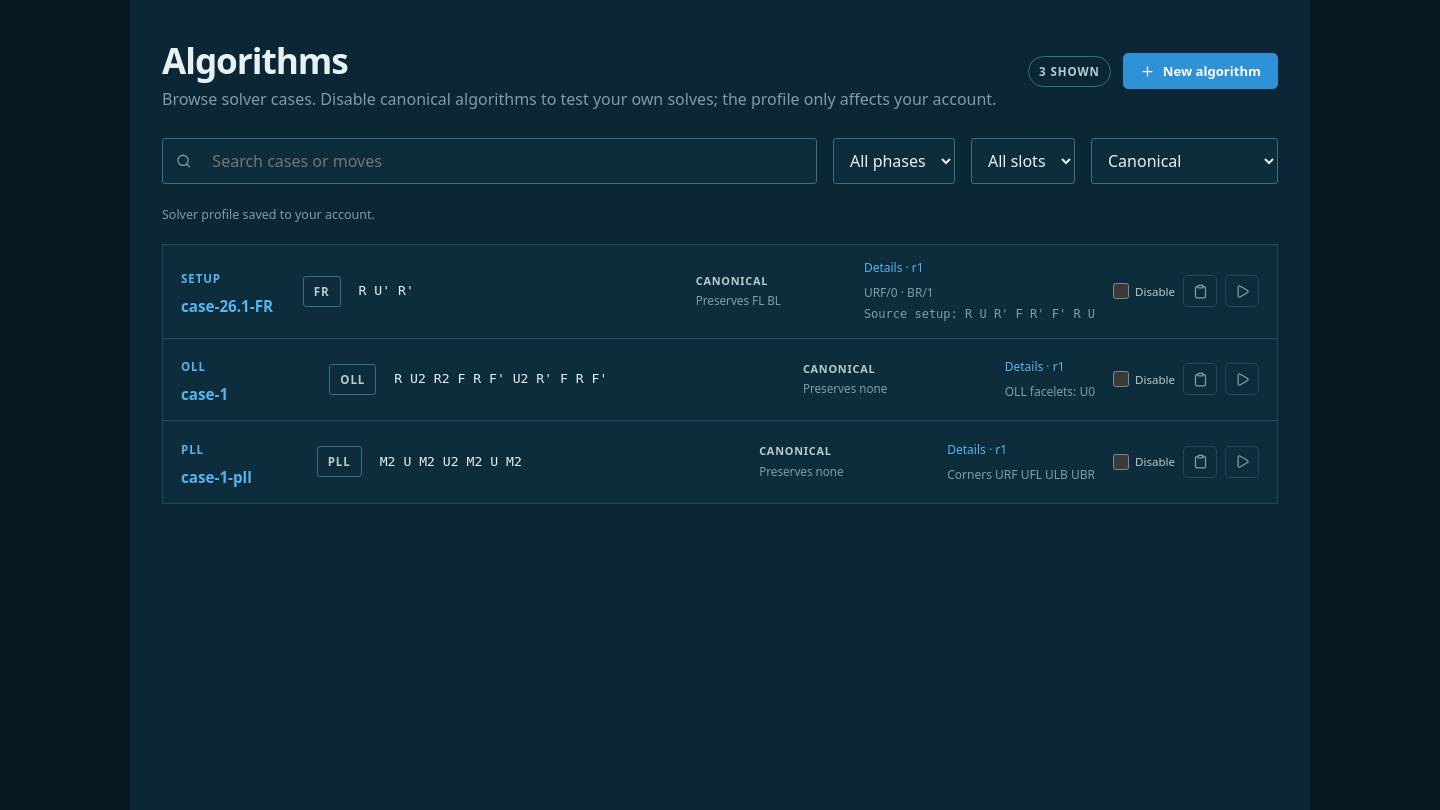
Test case: AlgorithmsView › keeps a failed selection and retries saving it
What coordinates should you click on to do the following:
click the checkbox named "Disable case-26.1-FR for my solver"
I would click on:
 (1121, 291)
Its box is [1113,283,1129,299].
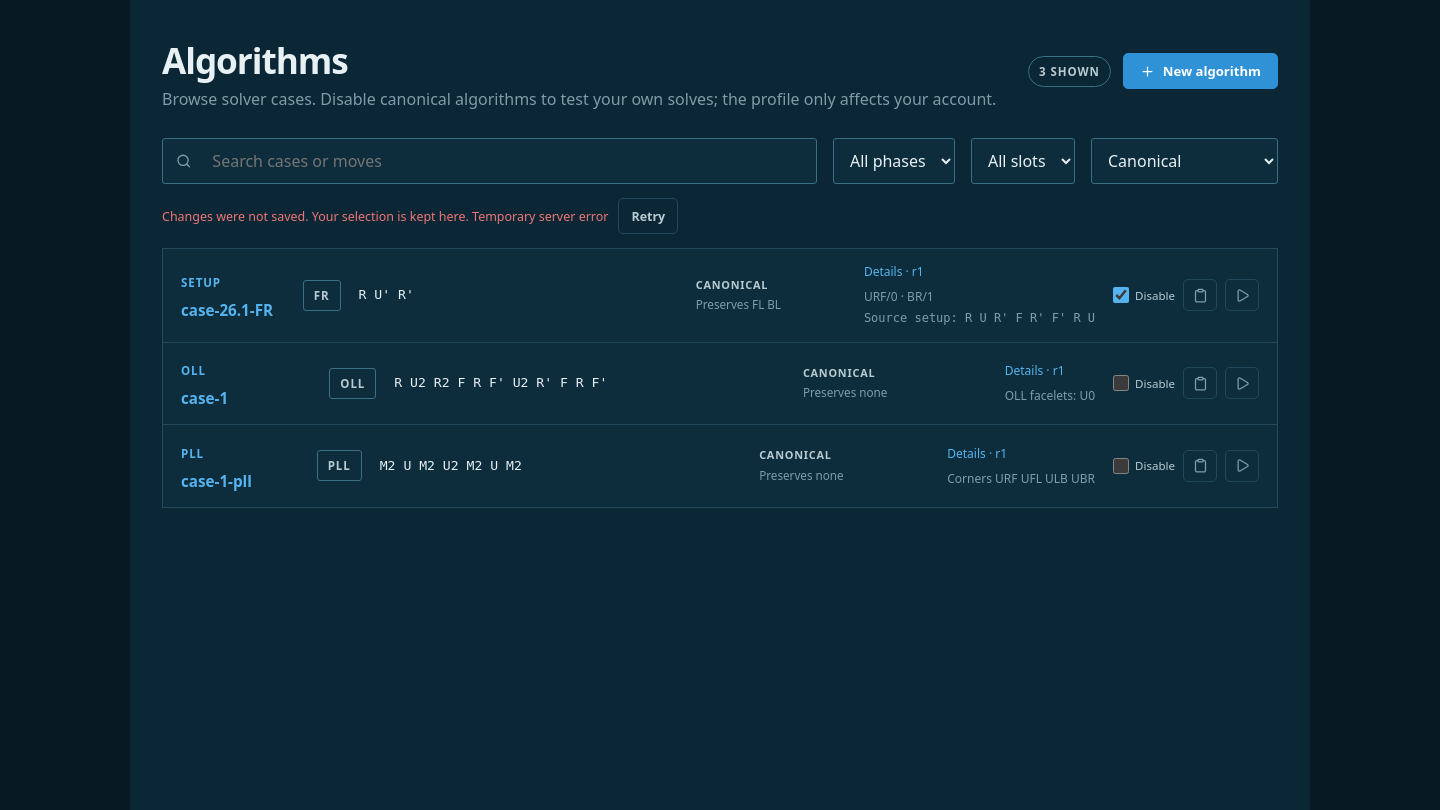
Expected: the checkbox named "Disable case-26.1-FR for my solver" is checked, [1113,287,1129,303]
Expected: the message shows "Changes were not saved.", [162,208,472,224]
What coordinates should you click on to do the following:
click the button "Retry"
I would click on:
 (648, 216)
Its box is [618,198,678,234].
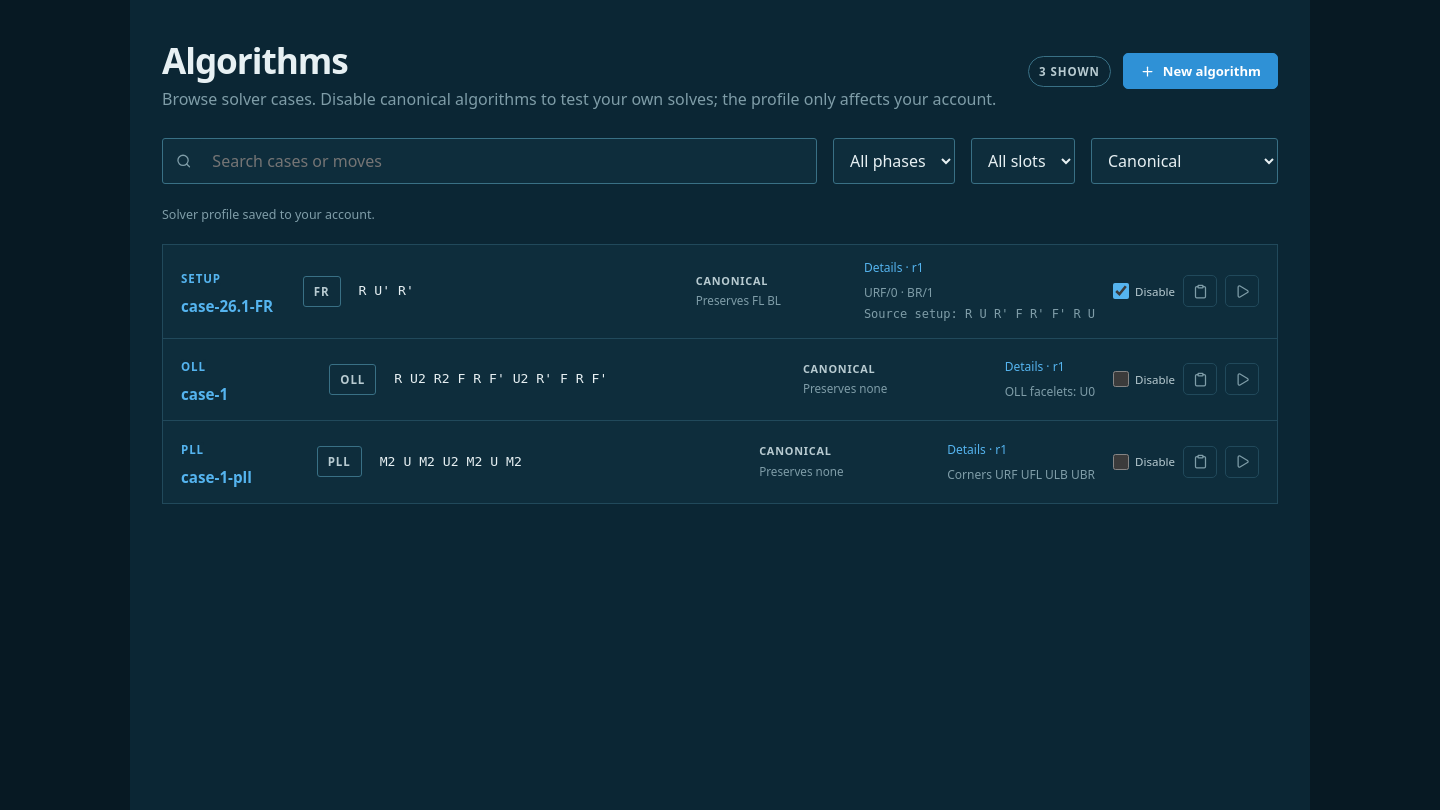
Expected: the text "Solver profile saved to your account." is shown, [162,206,375,222]
